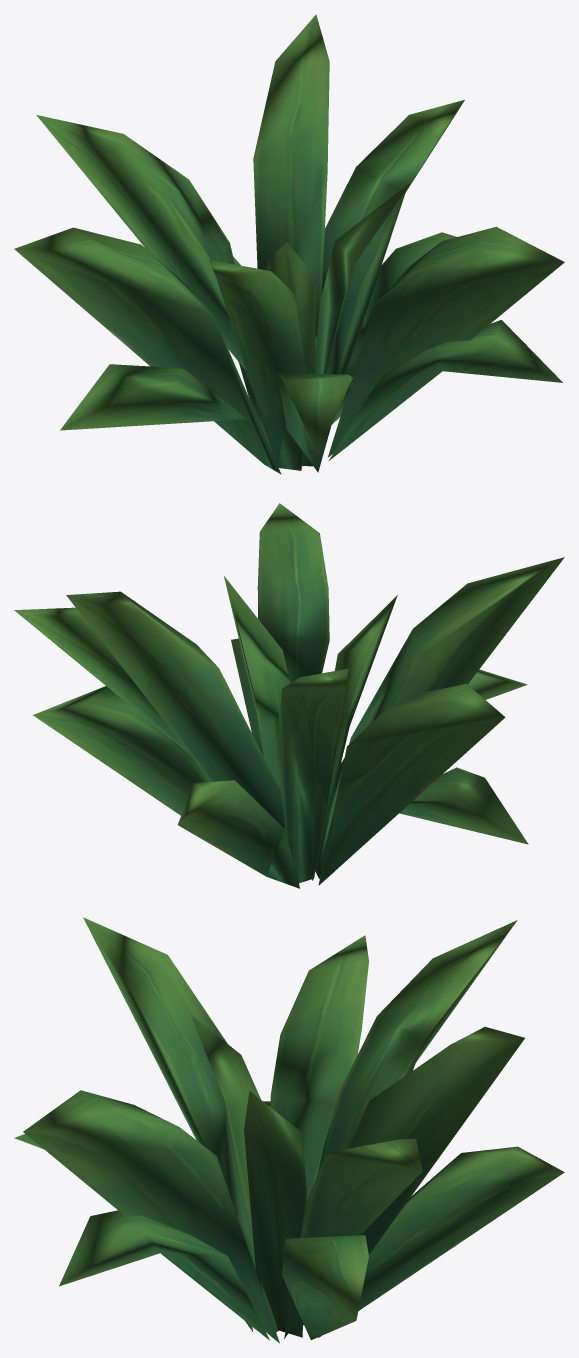
Rendered from grass_broadleaf.glb.
3 views of the same model, one above another, from view 1: azimuth 30°, elevation 25°; view 2: azimuth 150°, elevation 25°; view 3: azimuth 270°, elevation 25° (orthographic). The views are drawn at different scales.
Parts seen in each view (by area): view 1: geometry_0; view 2: geometry_0; view 3: geometry_0.
Boxes of the visible parts, x1,y1,x2,y2 form: geometry_0: (14,14,564,474); geometry_0: (14,503,564,888); geometry_0: (14,917,564,1343).
Size of the model in its own units: 0.9595 by 0.6299 by 0.8706.
Materials: 1 (1 with a texture image).
